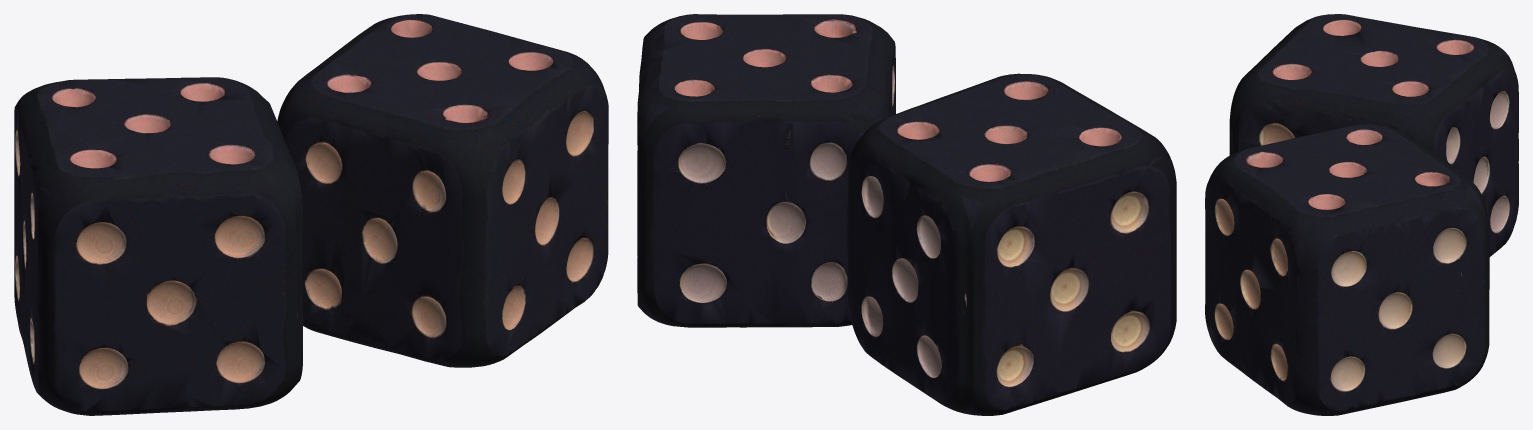
File: nsFloatingDice.1d7f7051.glb
3 renders of one model, left to right at view 1: azimuth 30°, elevation 25°; view 2: azimuth 150°, elevation 25°; view 3: azimuth 270°, elevation 25°, orthographic. The views are drawn at different scales.
Size of the model in its own units: 1.9 by 0.78 by 1.11.
1 material, 1 textured.
